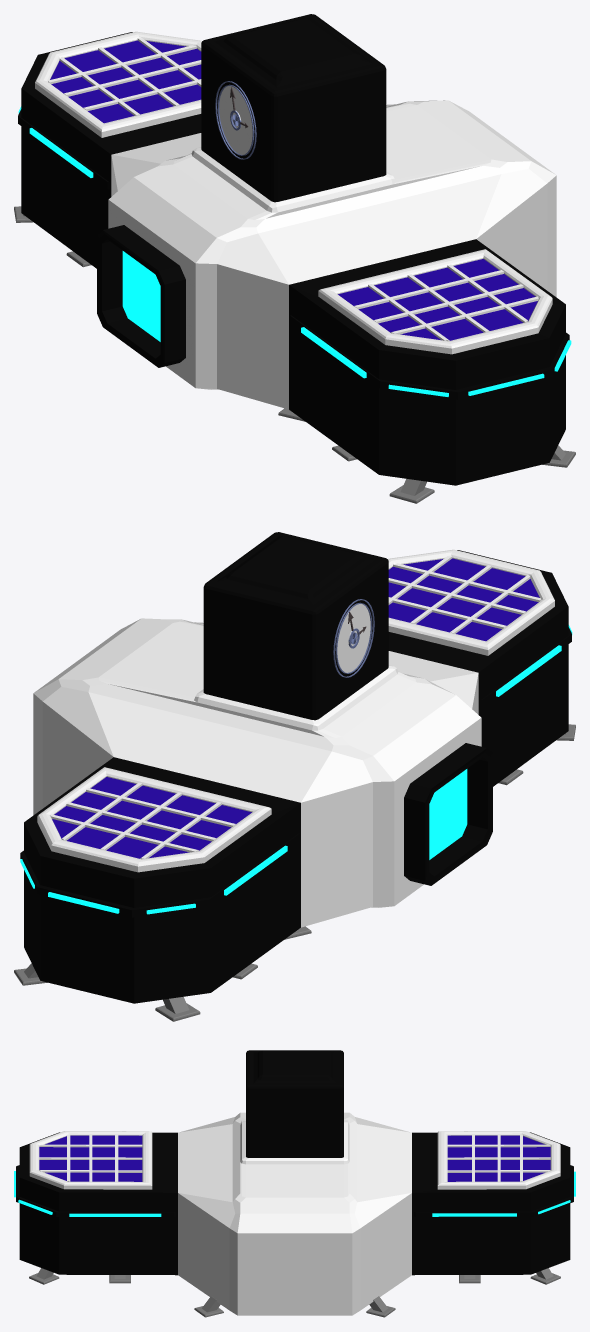
The model's file is Mesh_Build_School.fbx.
3 renders of one model, top to bottom at view 1: azimuth 30°, elevation 25°; view 2: azimuth 150°, elevation 25°; view 3: azimuth 270°, elevation 25°, orthographic. The views are drawn at different scales.
Visible parts, largest first — view 1: Ecole FINALE; view 2: Ecole FINALE; view 3: Ecole FINALE.
Part boxes in pixels (x1,y1,x2,y2): Ecole FINALE: (14,14,575,503); Ecole FINALE: (14,532,575,1021); Ecole FINALE: (14,1050,575,1317).
Bounding box in the file's own units: 3390 × 2478 × 6549.
